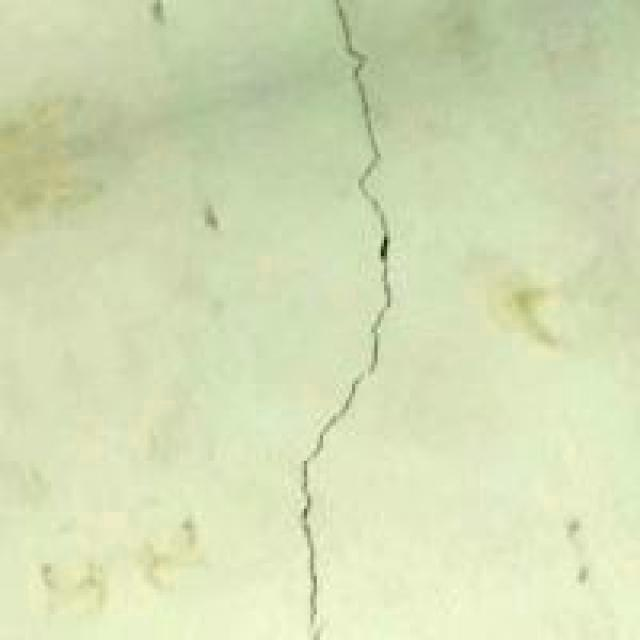Crack: (254, 0, 424, 640)
